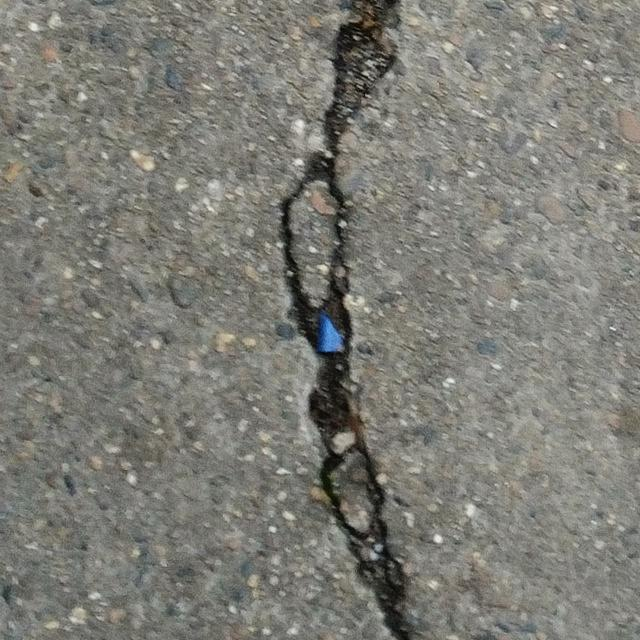LongitudinalCrack: (277, 1, 413, 640)
